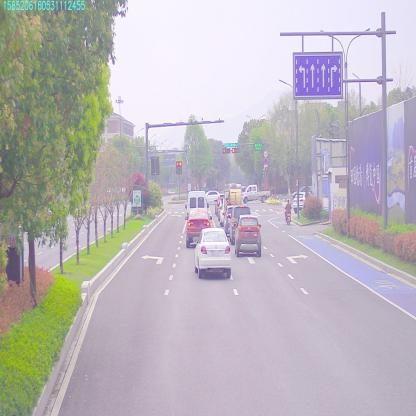traffic-light: (224, 141, 237, 147), (221, 147, 230, 155), (232, 147, 241, 154)
